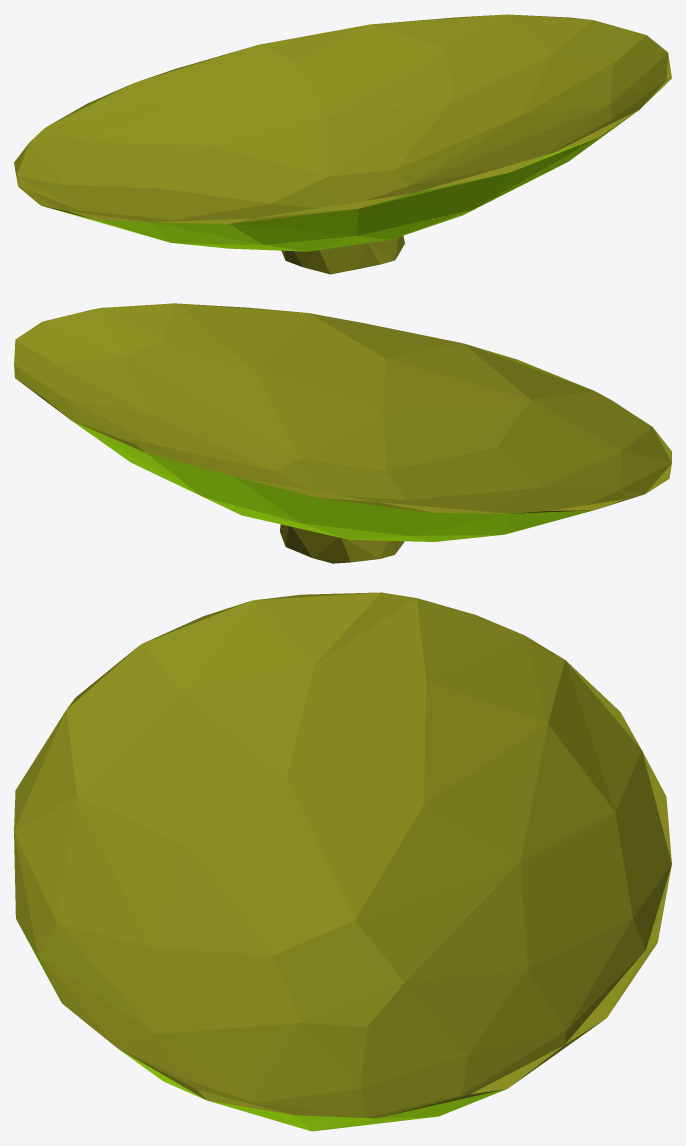
File: FruitBowl.fbx
3 renders of one model, top to bottom at view 1: azimuth 30°, elevation 25°; view 2: azimuth 150°, elevation 25°; view 3: azimuth 270°, elevation 25°, orthographic. The views are drawn at different scales.
Visible parts, largest first — view 1: FruitBowlLowPoly; view 2: FruitBowlLowPoly; view 3: FruitBowlLowPoly.
Boxes of the visible parts, x1,y1,x2,y2 form: FruitBowlLowPoly: (14, 14, 671, 274); FruitBowlLowPoly: (14, 303, 671, 563); FruitBowlLowPoly: (14, 592, 671, 1131).
Size of the model in its own units: 29.7 by 6.05 by 15.7.
